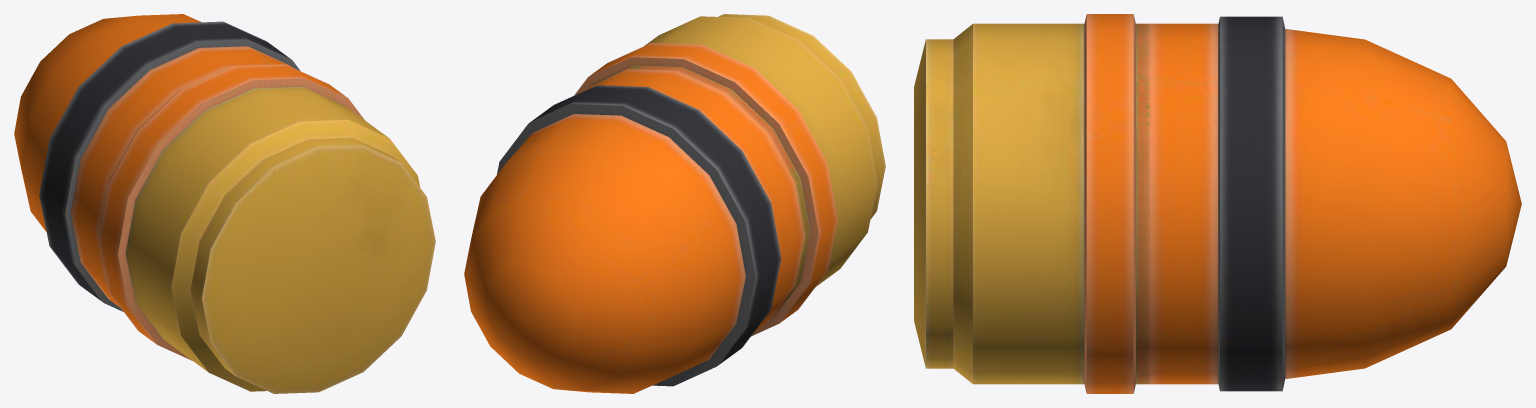
File: proj_grenade.glb
The picture shows the model from 3 angles, left to right: view 1: azimuth 30°, elevation 25°; view 2: azimuth 150°, elevation 25°; view 3: azimuth 270°, elevation 25°; orthographic projection. The views are drawn at different scales.
Visible parts, largest first — view 1: proj_grenade; view 2: proj_grenade; view 3: proj_grenade.
Part boxes in pixels (<box>): proj_grenade: <box>14,14,435,393</box>; proj_grenade: <box>464,14,885,393</box>; proj_grenade: <box>914,14,1521,393</box>.
Size of the model in its own units: 0.097 by 0.097 by 0.155.
3 materials, 3 textured.
